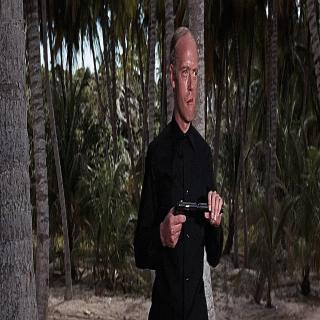gun: (160, 183, 227, 254)
